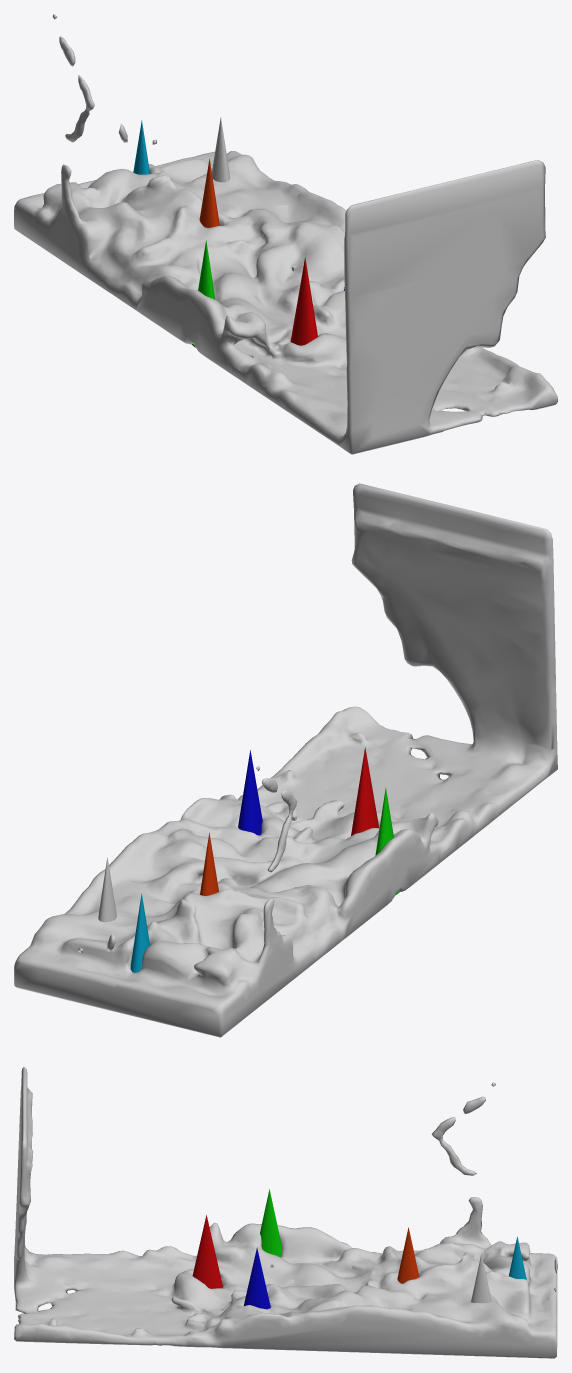
3 views of the same model, one above another, from view 1: azimuth 30°, elevation 25°; view 2: azimuth 150°, elevation 25°; view 3: azimuth 270°, elevation 25° (orthographic). The views are drawn at different scales.
Parts seen in each view (by area): view 1: Liquid_Domain, 円錐.001, 円錐.004, 円錐, 円錐.003; view 2: Liquid_Domain, 円錐.001, 円錐.002, 円錐.005, 円錐; view 3: Liquid_Domain, 円錐.001, 円錐.003, 円錐.002, 円錐.004, 円錐, 円錐.005.
Boxes of the visible parts, x1=… form: Liquid_Domain: x1=14, y1=14, x2=557, y2=454; 円錐.001: x1=290, y1=257, x2=317, y2=345; 円錐.004: x1=199, y1=159, x2=219, y2=227; 円錐: x1=212, y1=117, x2=229, y2=182; 円錐.003: x1=191, y1=240, x2=215, y2=347; Liquid_Domain: x1=14, y1=483, x2=557, y2=1037; 円錐.001: x1=351, y1=747, x2=378, y2=835; 円錐.002: x1=238, y1=750, x2=262, y2=835; 円錐.005: x1=130, y1=893, x2=150, y2=972; 円錐: x1=98, y1=857, x2=116, y2=922; Liquid_Domain: x1=14, y1=1066, x2=557, y2=1358; 円錐.001: x1=192, y1=1215, x2=222, y2=1288; 円錐.003: x1=260, y1=1189, x2=281, y2=1257; 円錐.002: x1=243, y1=1247, x2=270, y2=1309; 円錐.004: x1=397, y1=1227, x2=419, y2=1283; 円錐: x1=471, y1=1254, x2=491, y2=1303; 円錐.005: x1=509, y1=1236, x2=526, y2=1279.
Bounding box in the file's own units: 129 × 158 × 362.
